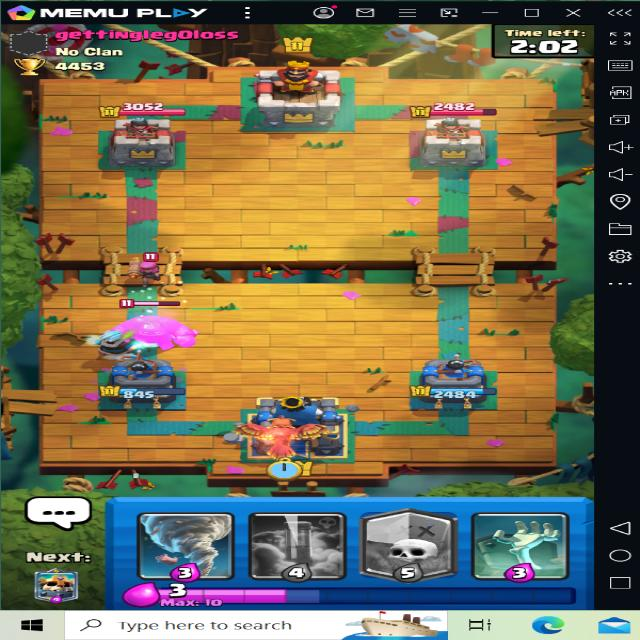electro-golem: (104, 296, 212, 352)
firecracker: (116, 248, 177, 275)
